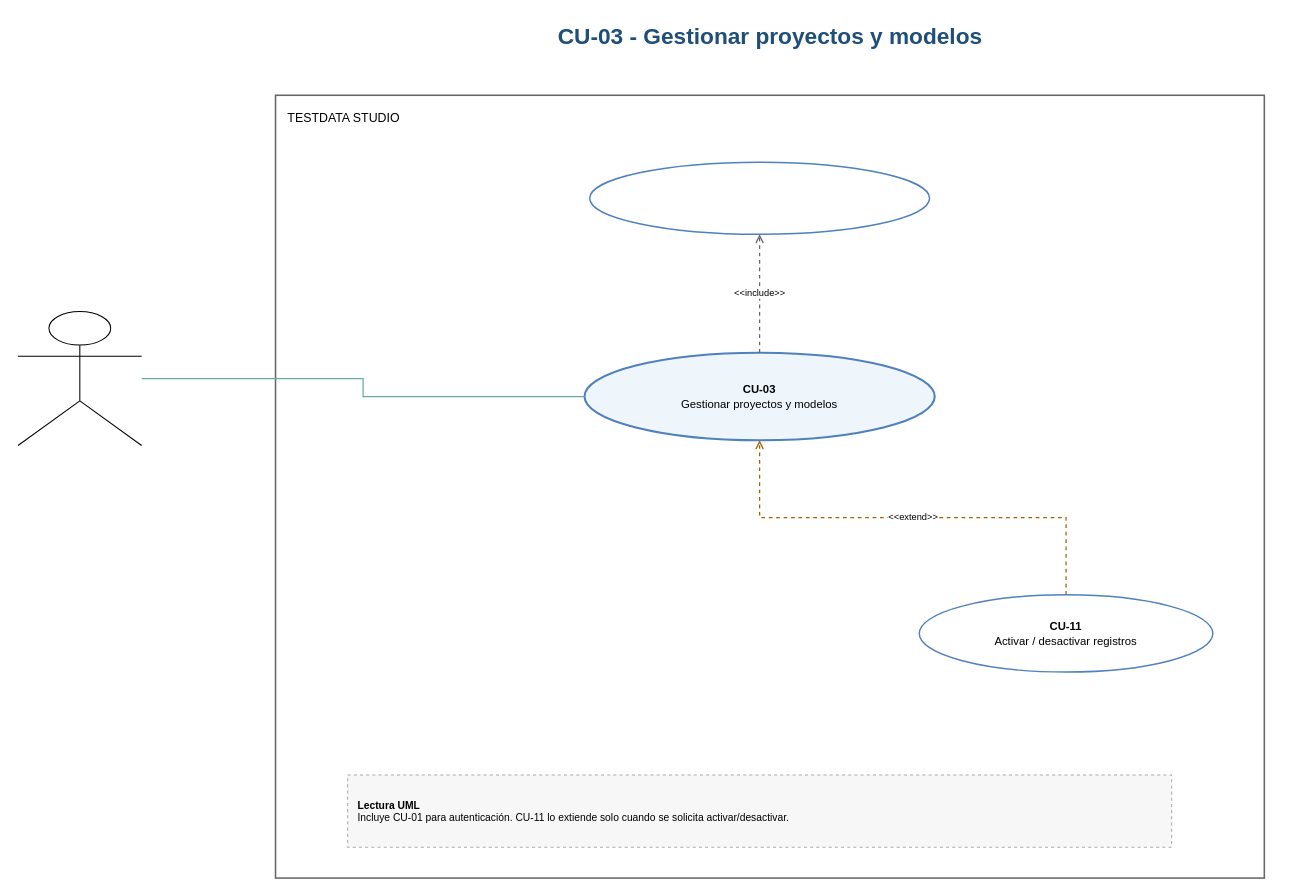
This 1303x896 diagram has some shape labels left out. Each missing label, with the centre of its shape:
"Analista/Tester" belongs at pixel 79 378.
"CU-01 Iniciar sesión" belongs at pixel 759 198.
